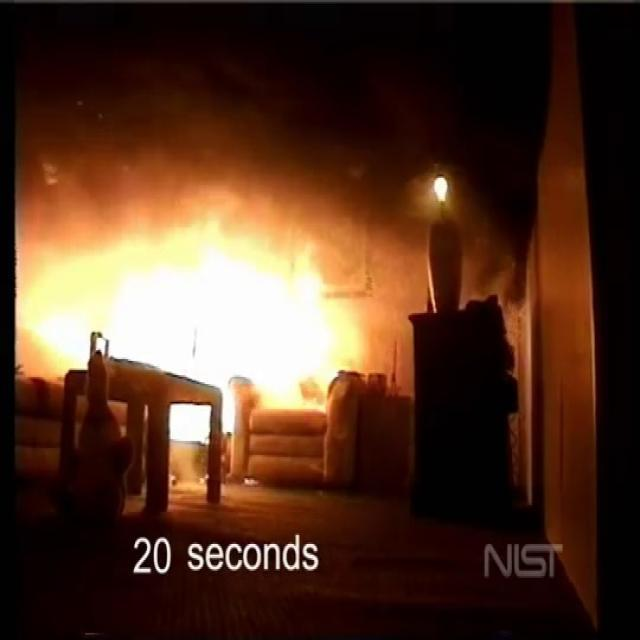Fire: (16, 202, 374, 418)
Smoke: (16, 38, 431, 242)
